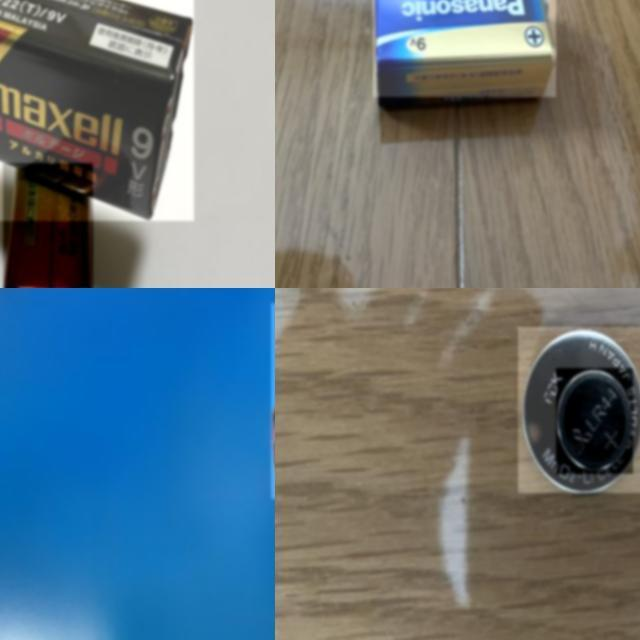9V: (0, 0, 194, 221), (373, 0, 556, 97), (3, 163, 93, 288)
